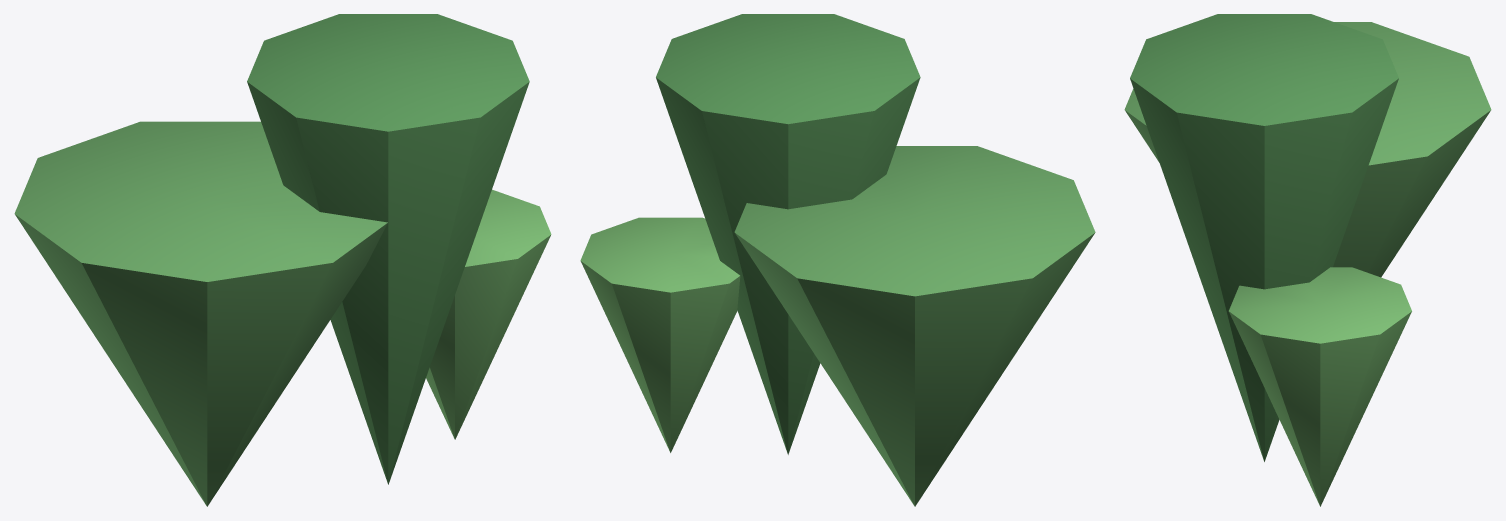
3 views of the same model, side by side, from view 1: azimuth 30°, elevation 25°; view 2: azimuth 150°, elevation 25°; view 3: azimuth 270°, elevation 25° (orthographic). The views are drawn at different scales.
Parts seen in each view (by area): view 1: landmark_a4d54764; view 2: landmark_a4d54764; view 3: landmark_a4d54764.
Part boxes in pixels (x1,y1,x2,y2): landmark_a4d54764: (14, 14, 551, 506); landmark_a4d54764: (580, 14, 1095, 506); landmark_a4d54764: (1124, 14, 1491, 506).
Size of the model in its own units: 8.82 by 7 by 5.91.
